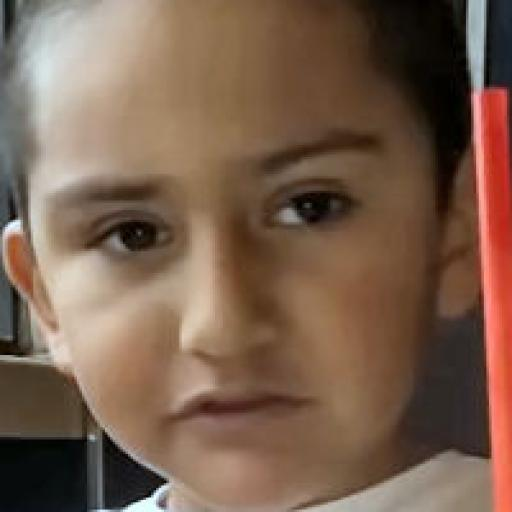Autism: (8, 10, 491, 485)
